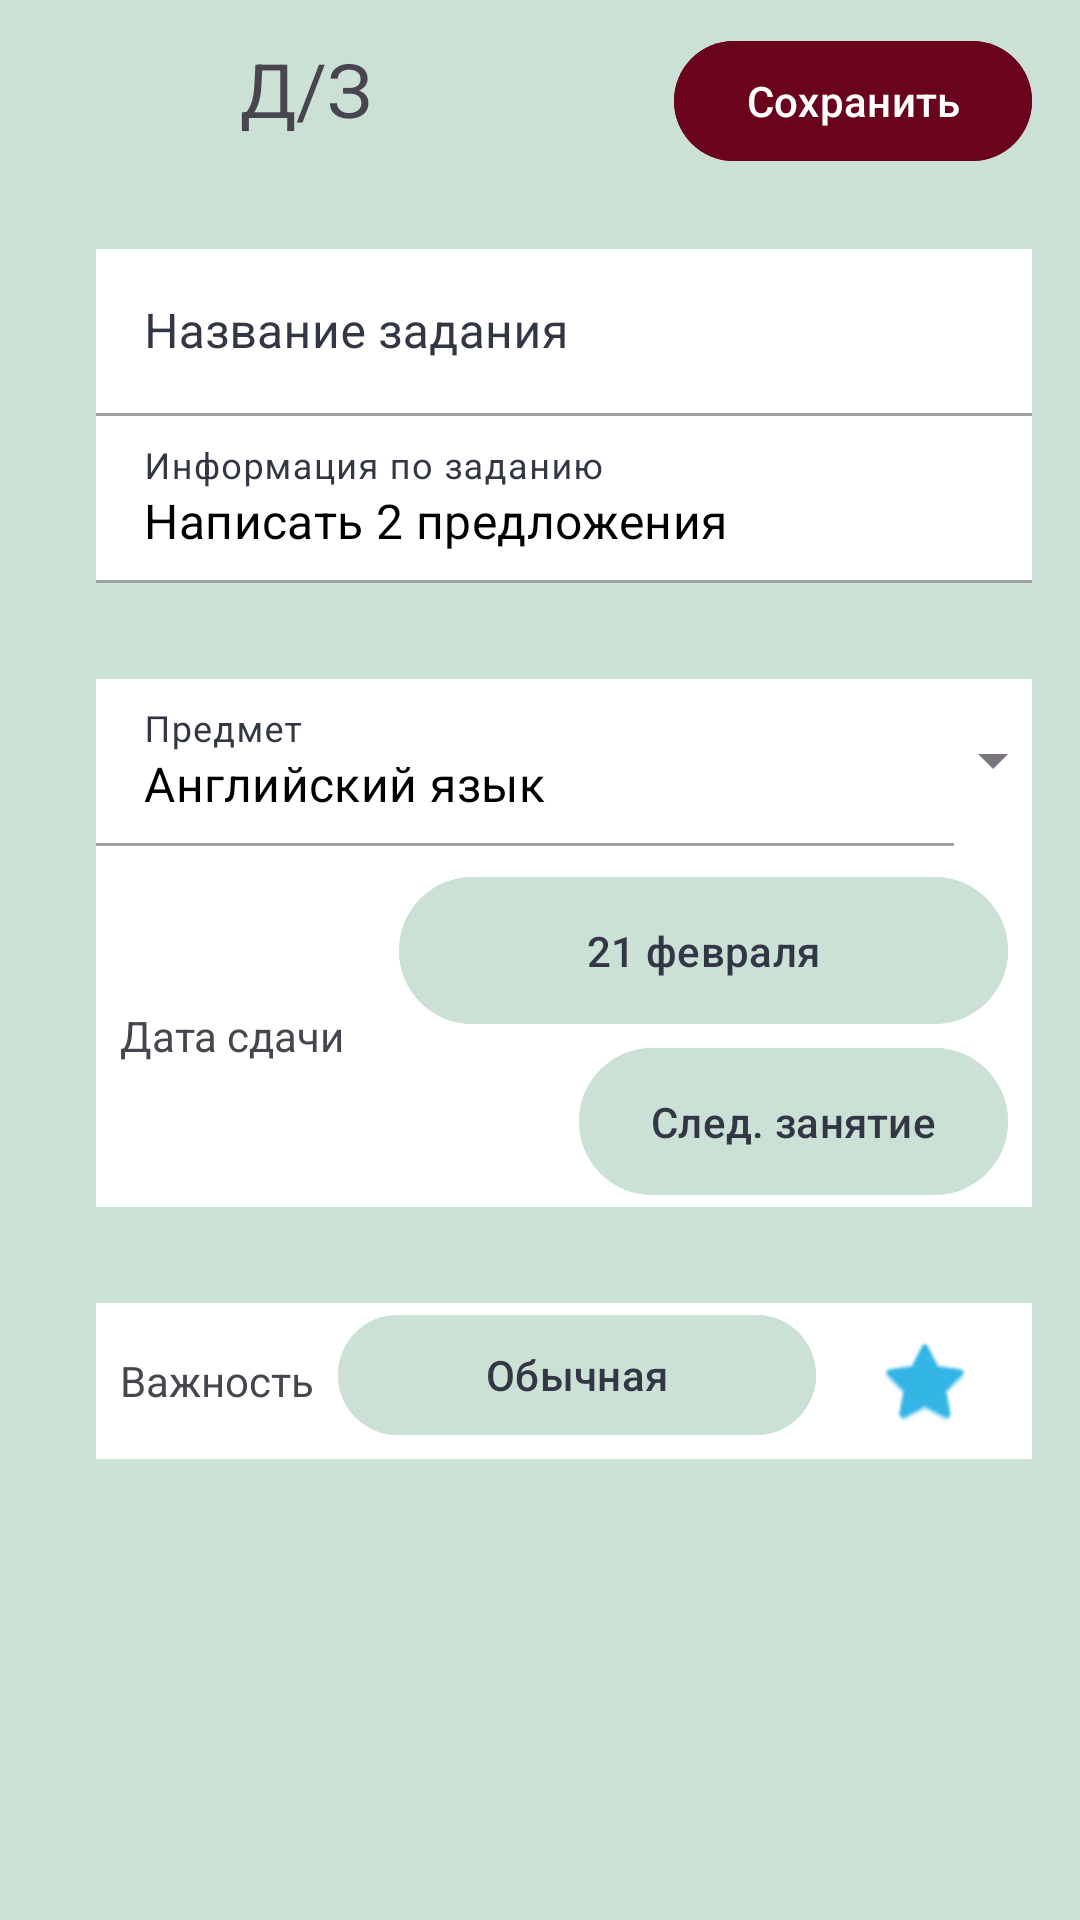

Screen size 1080*1920. Icon name, then its center in pixels as (x,y):
star: (925,1382)
